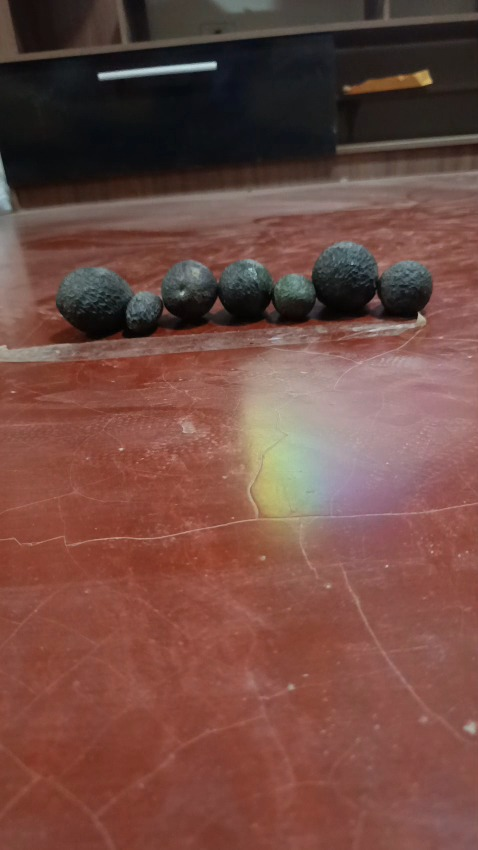Primera: (55, 266, 132, 336), (312, 240, 379, 312)
Segunda: (161, 259, 218, 322), (218, 259, 274, 320), (377, 260, 432, 316)
Tercera: (273, 273, 316, 321), (125, 291, 163, 335)
